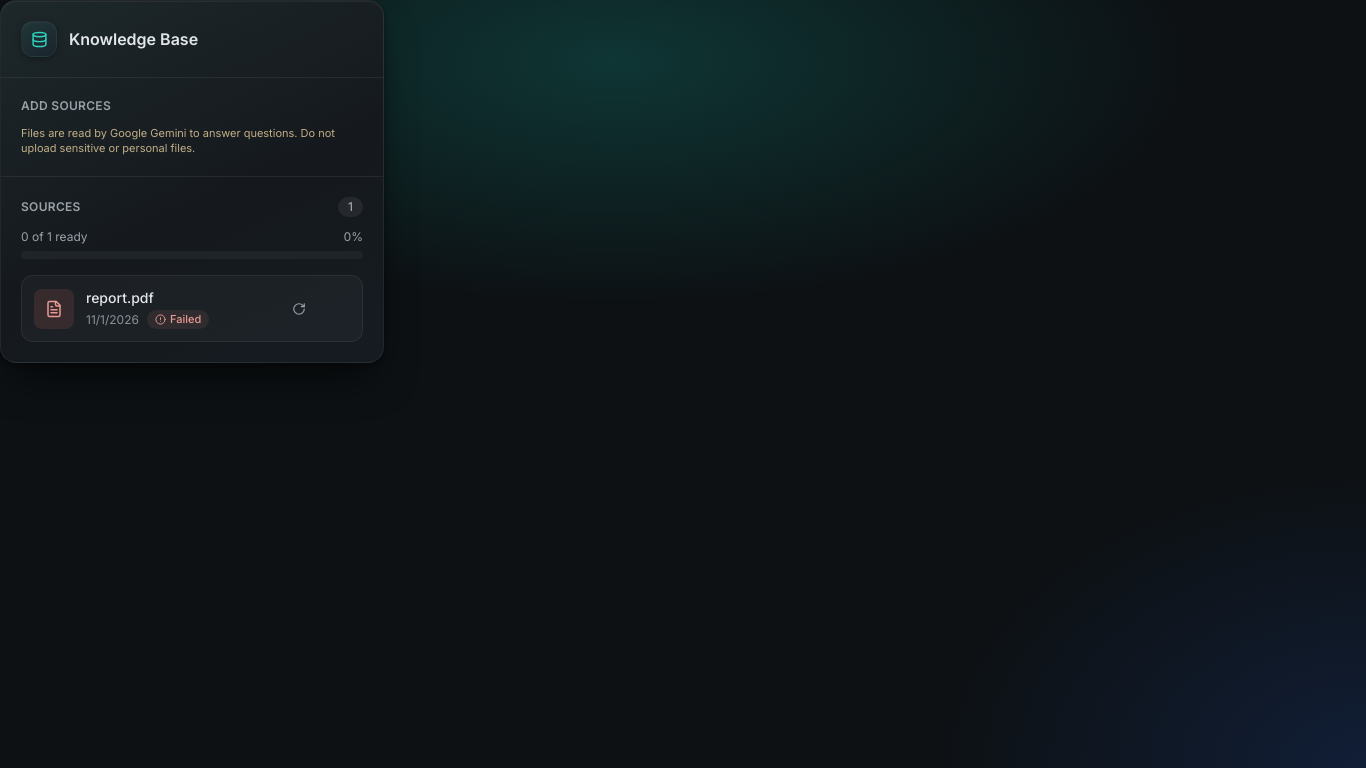
Scenario: delete and retry › D12 a failed retry shows an error and keeps the failed state
Click the button named "Retry report.pdf".
click(299, 309)  # box [286, 296, 312, 322]
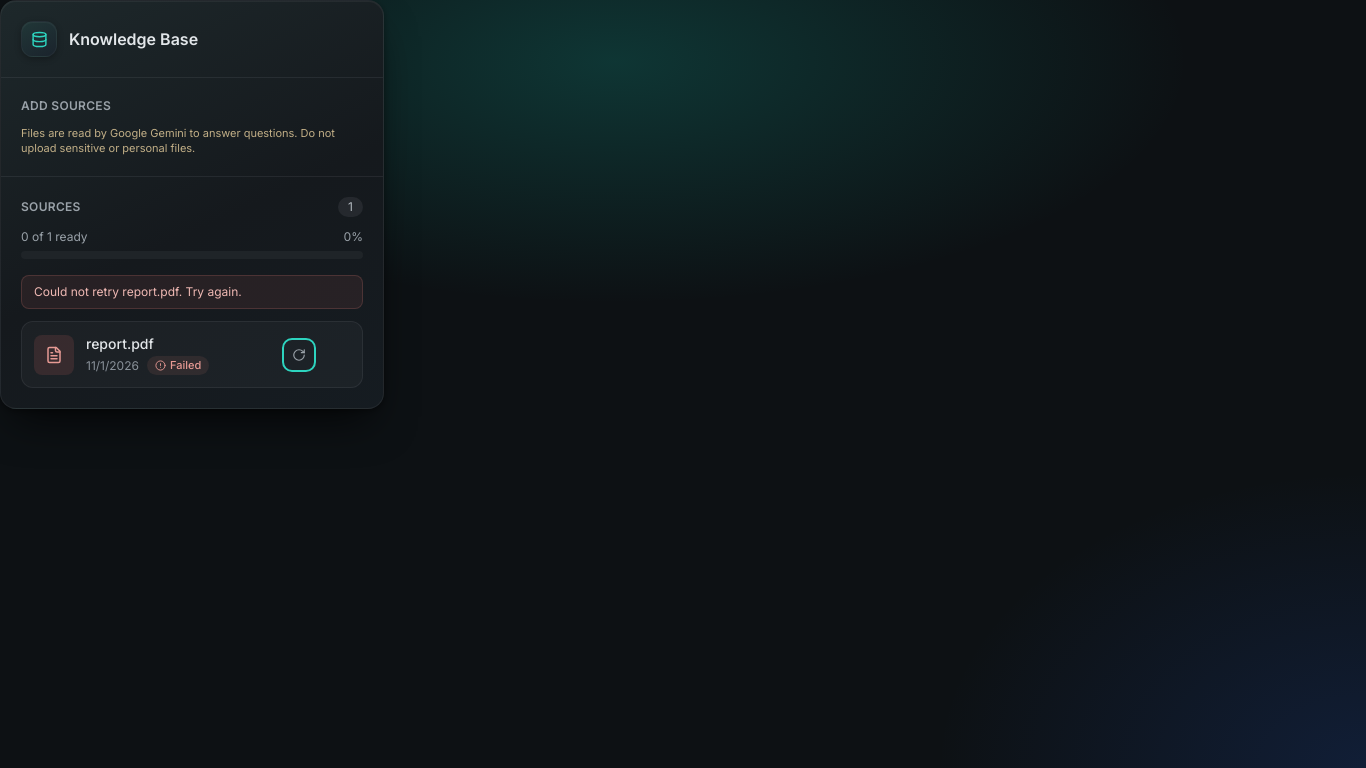
Expected: the element with test id "status-d1" reads "Failed", [170, 358, 201, 372]
Result: the message shows "Could not retry report.pdf" at [34, 284, 242, 299]
